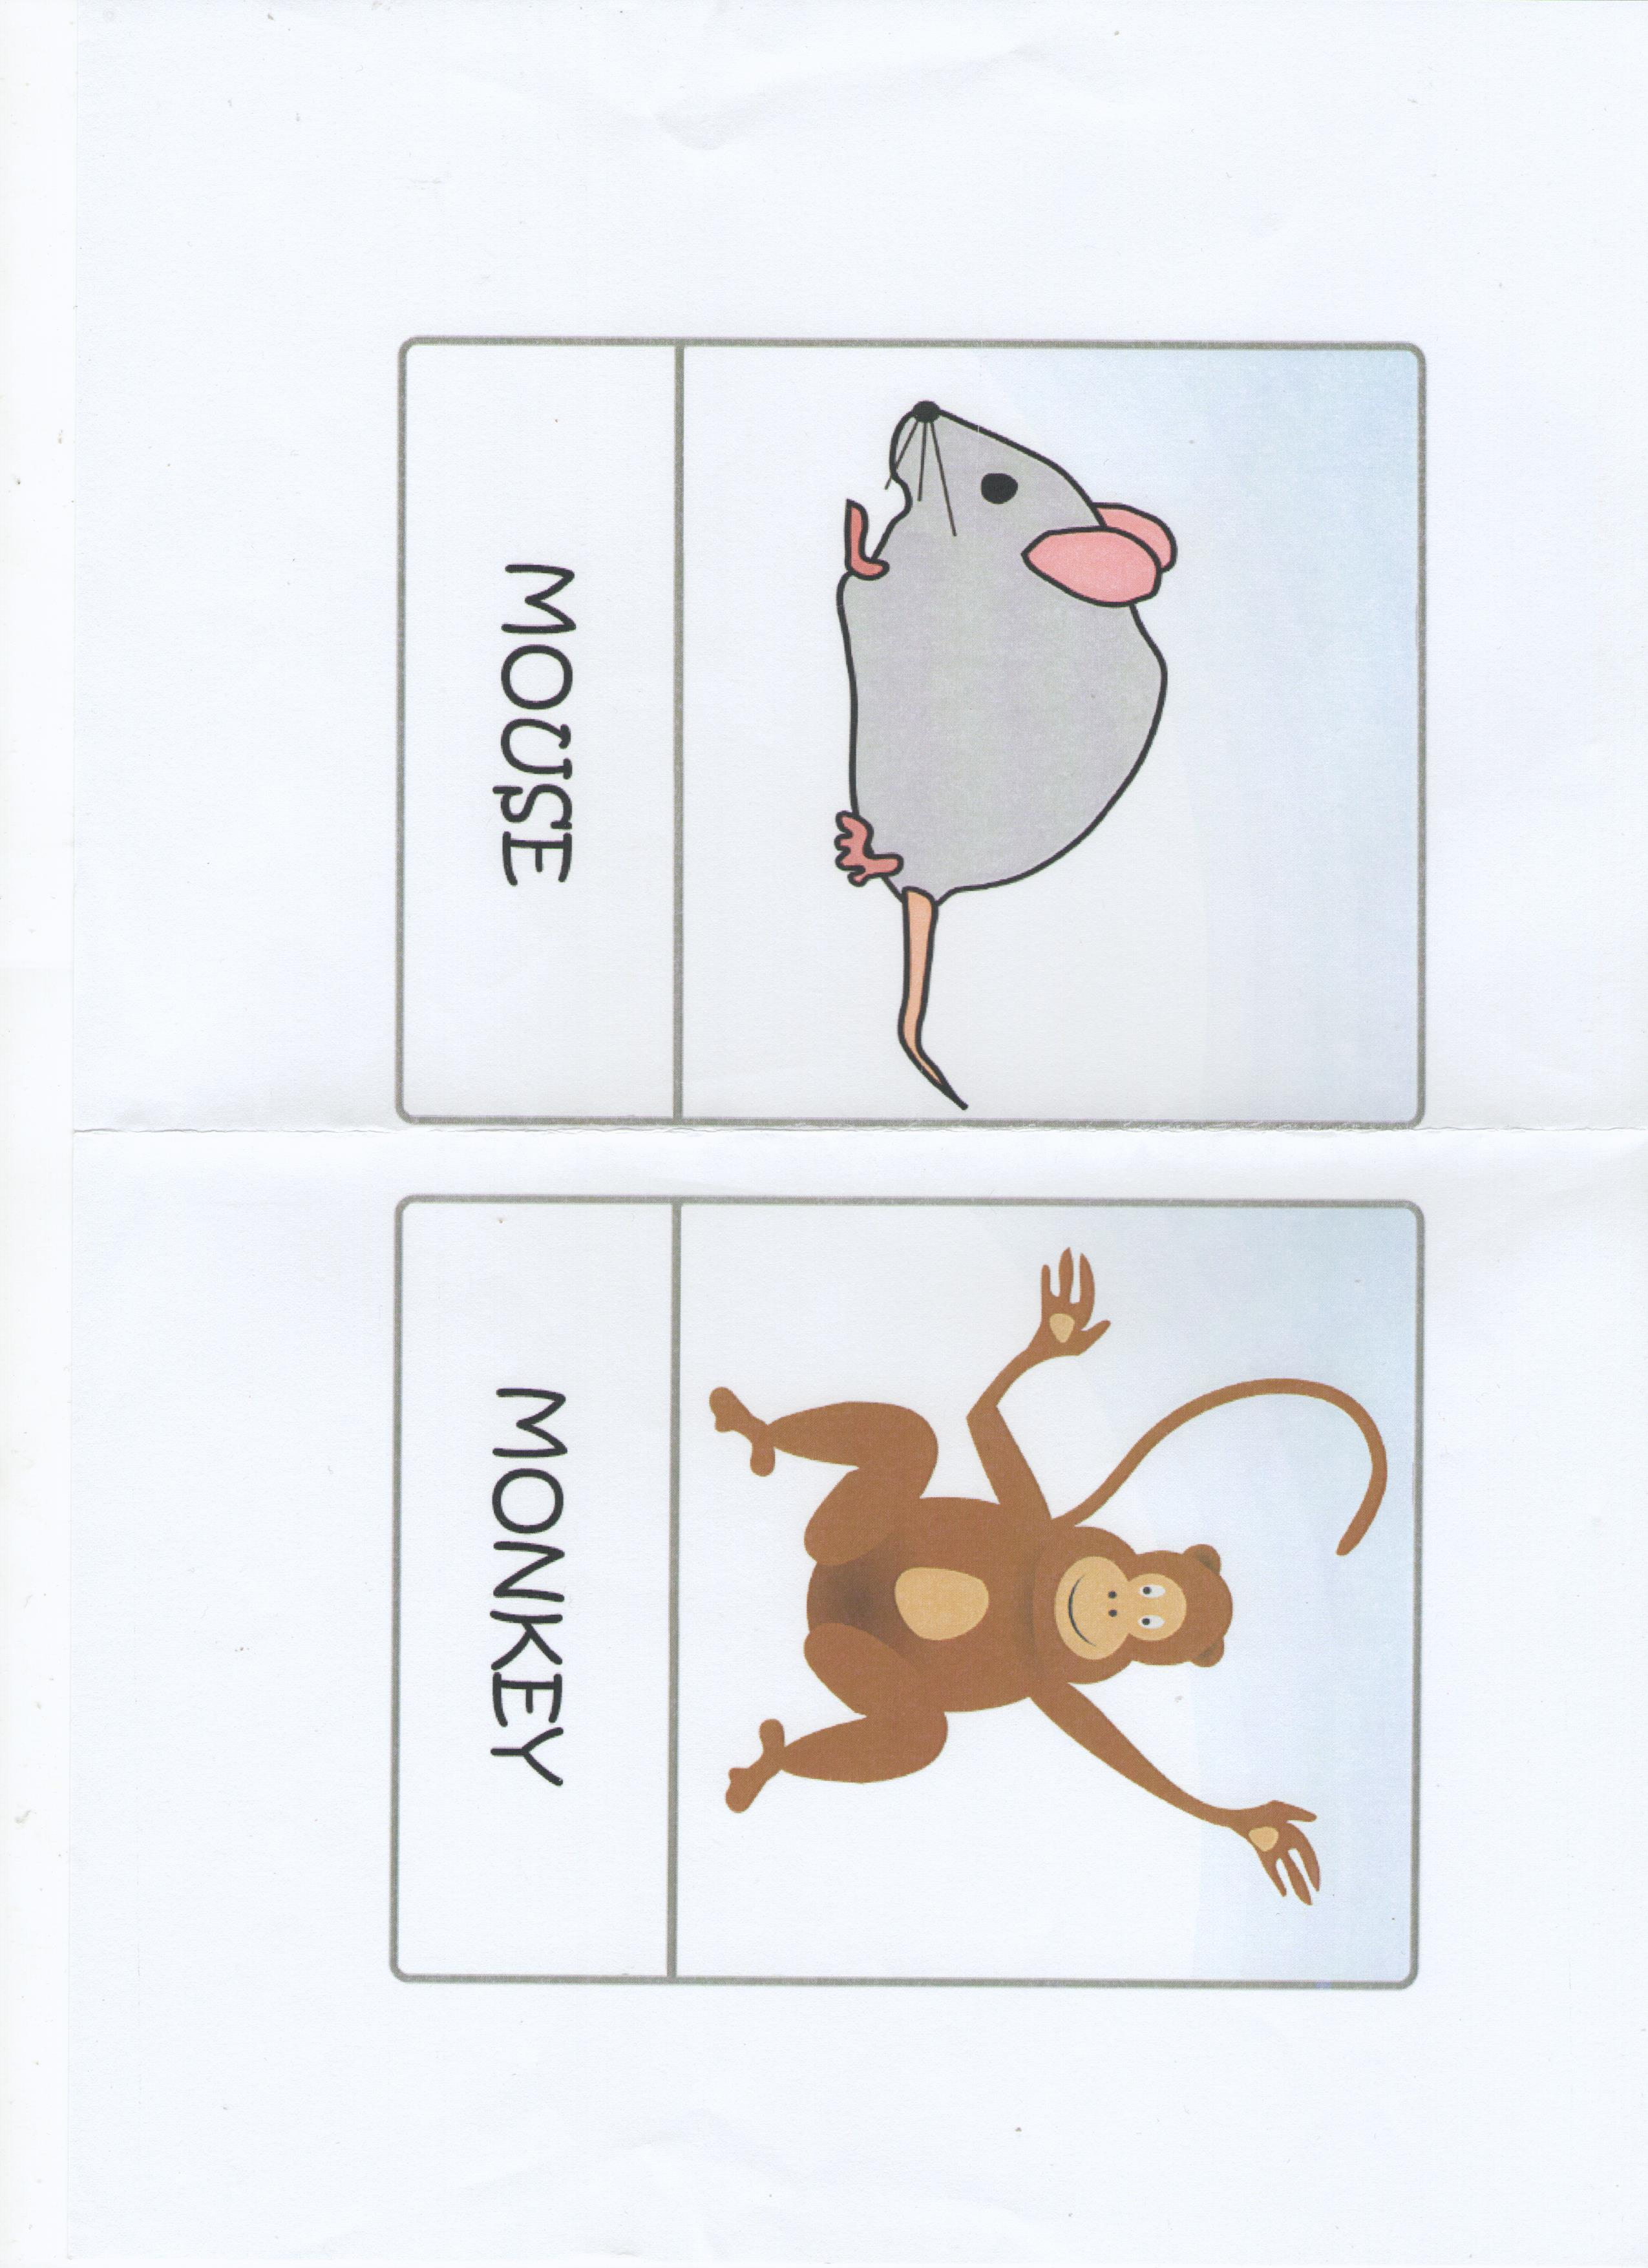scimmia: (443, 1213, 1415, 1943)
topo: (443, 342, 1293, 1108)
